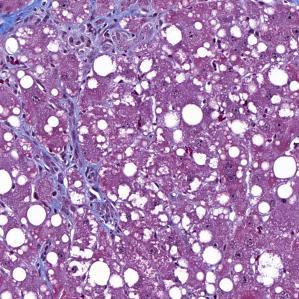fibrosis: (76, 12, 144, 59), (0, 0, 52, 38)
